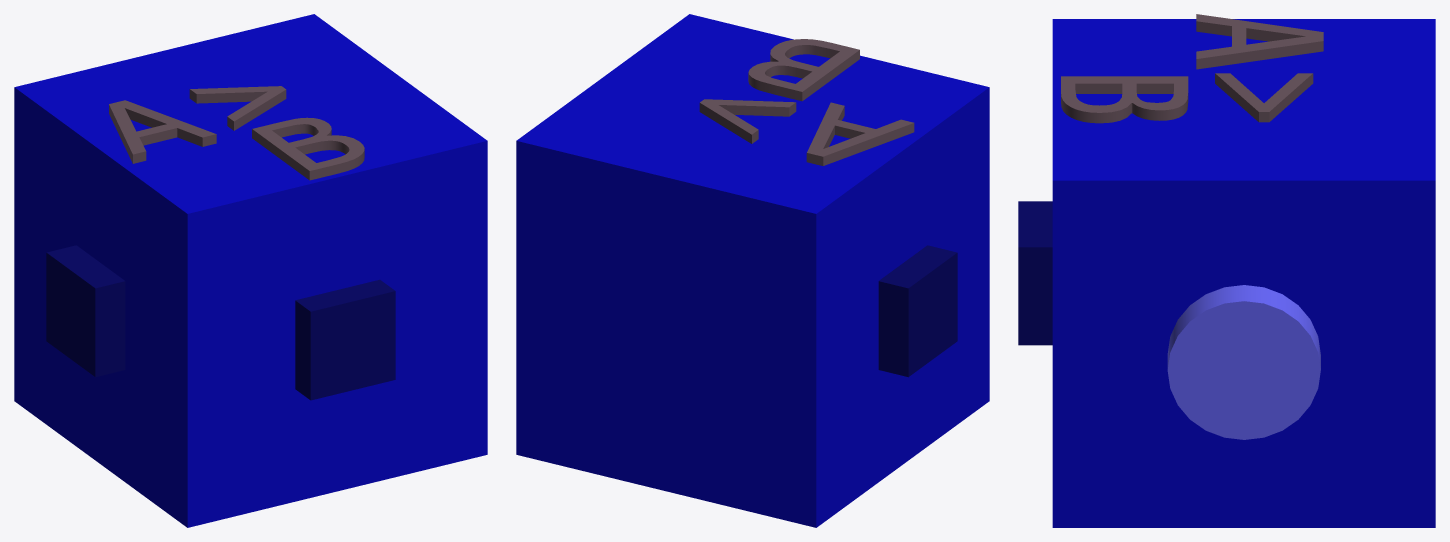
The model's file is GreaterThan_Logic.dae.
3 views of the same model, side by side, from view 1: azimuth 30°, elevation 25°; view 2: azimuth 150°, elevation 25°; view 3: azimuth 270°, elevation 25° (orthographic). The views are drawn at different scales.
Visible parts, largest first — view 1: SketchUp (×3), B, A, instance_0; view 2: SketchUp (×2), B, A, instance_0; view 3: SketchUp (×3), B (×2), A, instance_0.
Part boxes in pixels (x1,y1,x2,y2): SketchUp (×3): [14, 14, 487, 527]; B: [252, 117, 364, 180]; A: [109, 100, 216, 163]; instance_0: [189, 86, 286, 130]; SketchUp (×2): [516, 14, 989, 527]; B: [748, 39, 859, 101]; A: [806, 102, 914, 165]; instance_0: [699, 99, 796, 143]; SketchUp (×3): [1018, 19, 1435, 527]; B (×2): [1061, 76, 1188, 123]; A: [1196, 14, 1323, 69]; instance_0: [1215, 73, 1313, 122].
Size of the model in its own units: 47.24 by 42.91 by 40.55.
